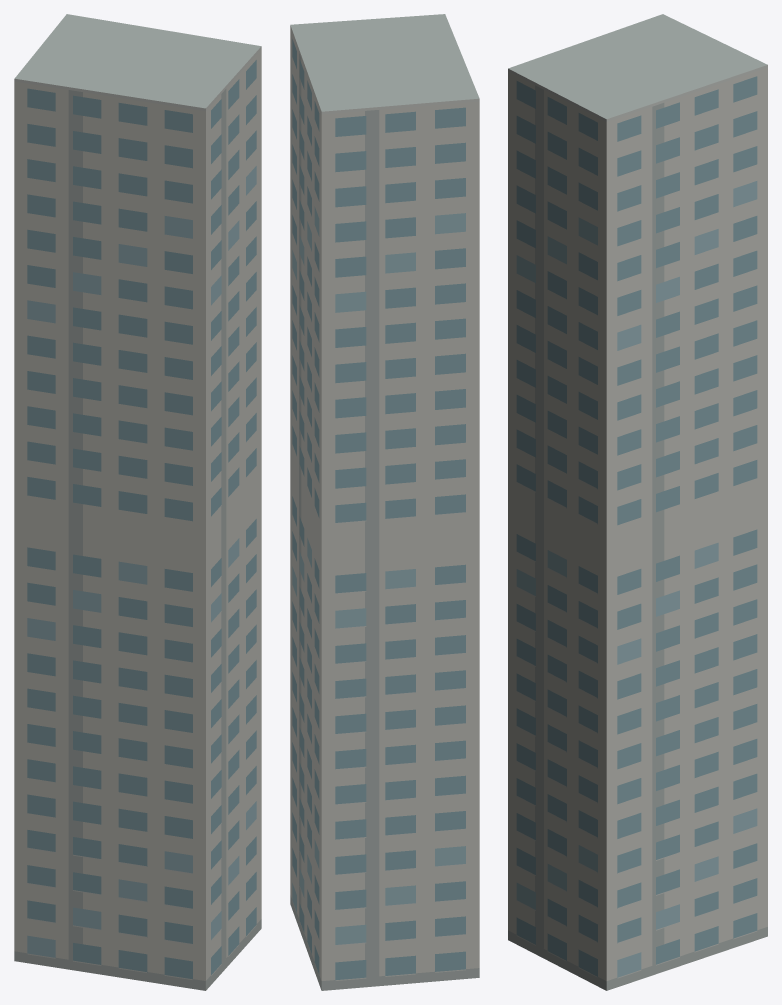
File: survey-upis-32577738.glb
The picture shows the model from 3 angles, left to right: view 1: azimuth 30°, elevation 25°; view 2: azimuth 150°, elevation 25°; view 3: azimuth 270°, elevation 25°; orthographic projection.
Parts seen in each view (by area): view 1: survey-upis-32577738.tmp; view 2: survey-upis-32577738.tmp; view 3: survey-upis-32577738.tmp.
Boxes of the visible parts, <box> form: survey-upis-32577738.tmp: <box>14,14,261,990</box>; survey-upis-32577738.tmp: <box>290,14,479,990</box>; survey-upis-32577738.tmp: <box>508,14,767,990</box>.
Bounding box in the file's own units: 19.77 × 76.25 × 20.61.
